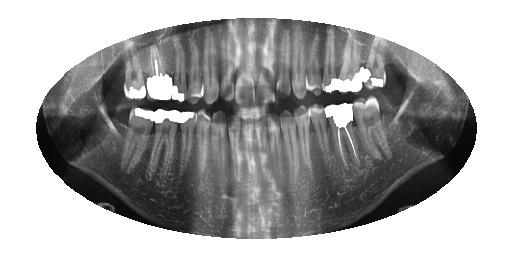Fillings: (120, 108, 156, 172), (148, 110, 182, 175), (337, 37, 364, 92), (124, 50, 147, 100), (179, 110, 197, 173), (365, 41, 386, 90), (172, 43, 189, 101), (324, 29, 337, 93)
Implant: (322, 102, 358, 169), (146, 45, 175, 100)
